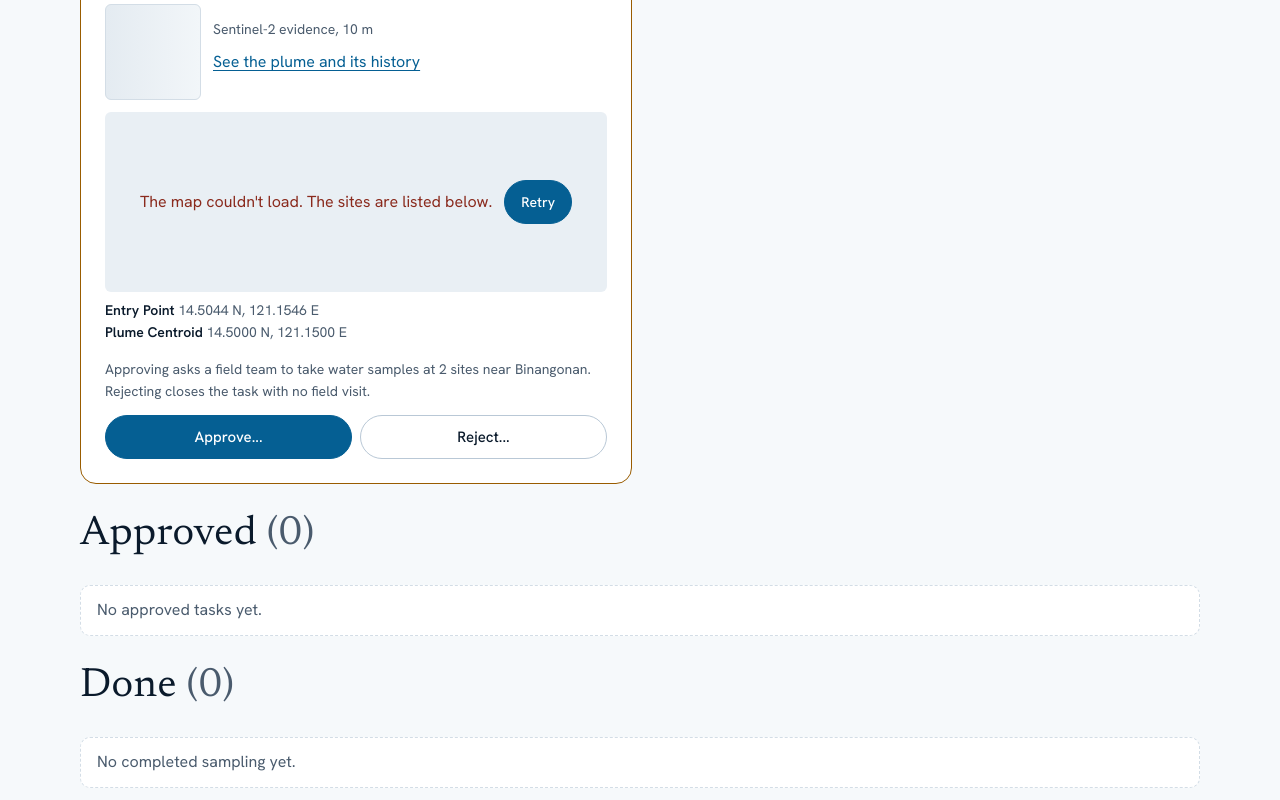
Test: sampling page › rolls back with an error message on other failures
(page scrolled)
Click the button "Approve..." at (228, 437), box [105,415,352,459]
(page scrolled)
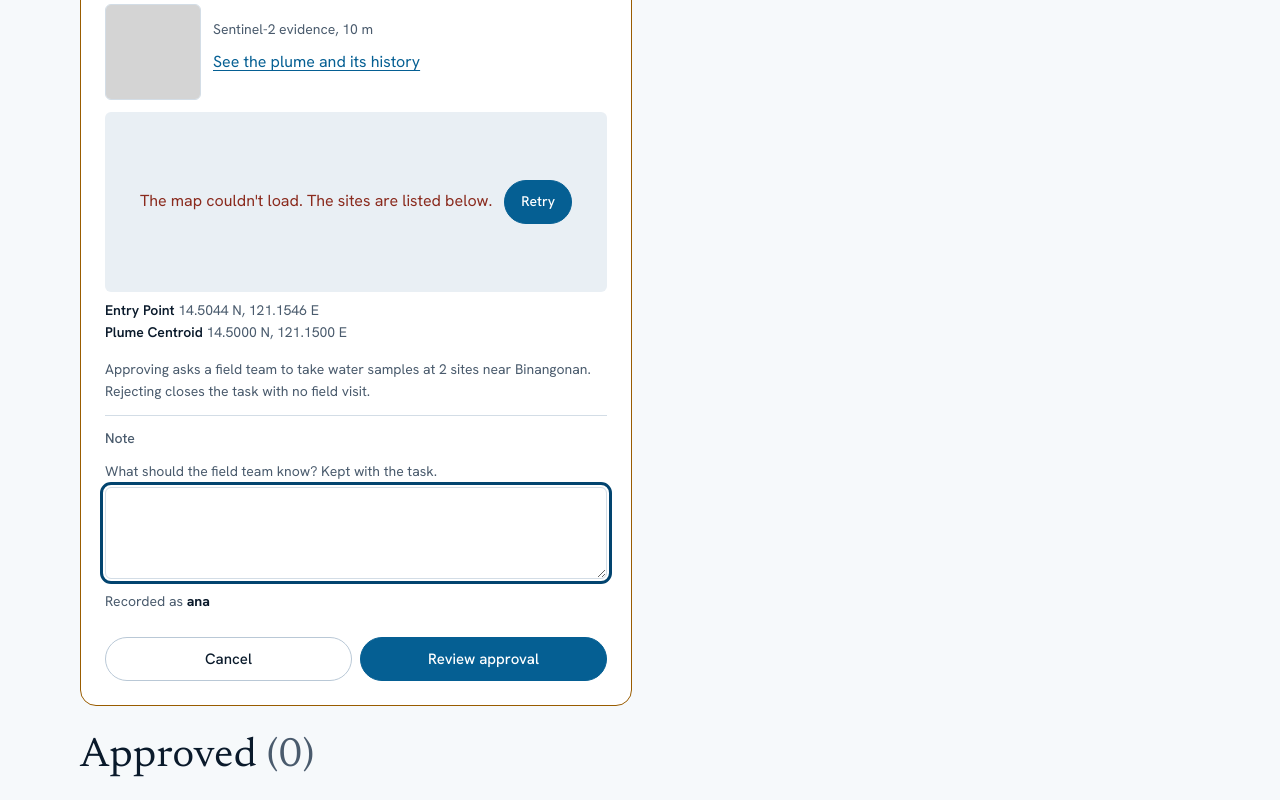
Type "Upstream factory outfall, sample this week." into the text box labelled "Note" at (356, 533), box [105,487,607,579]
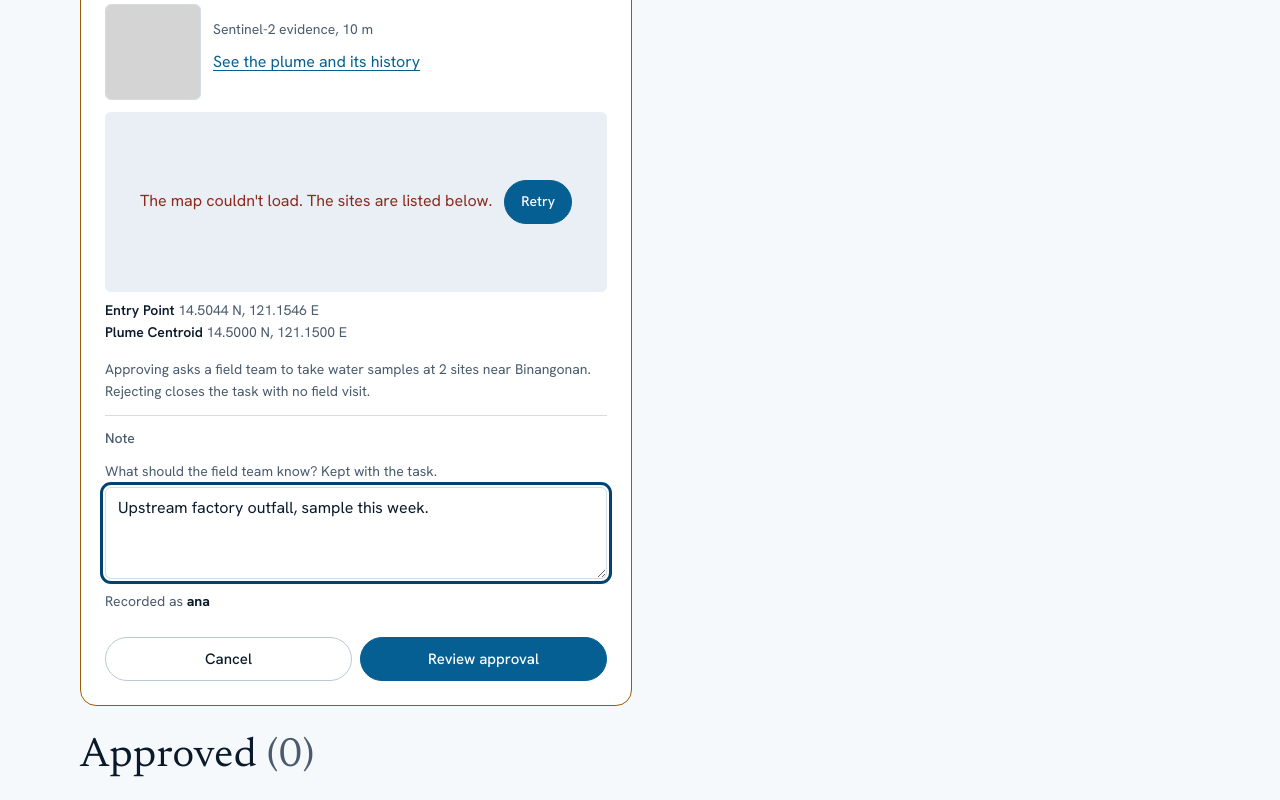
Click the button "Review approval" at (484, 659), box [360,637,607,681]
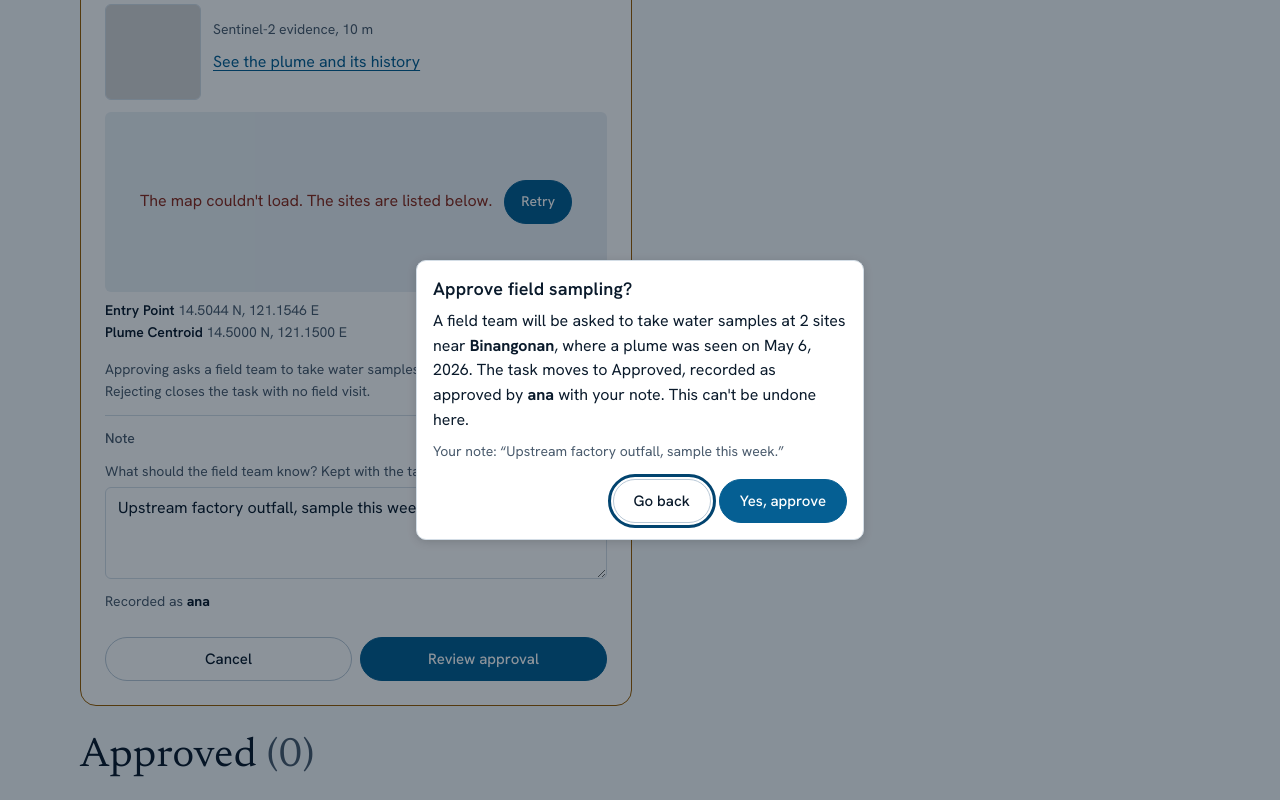
Click the button "Yes, approve" at (783, 500), box [719,478,847,522]
(page scrolled)
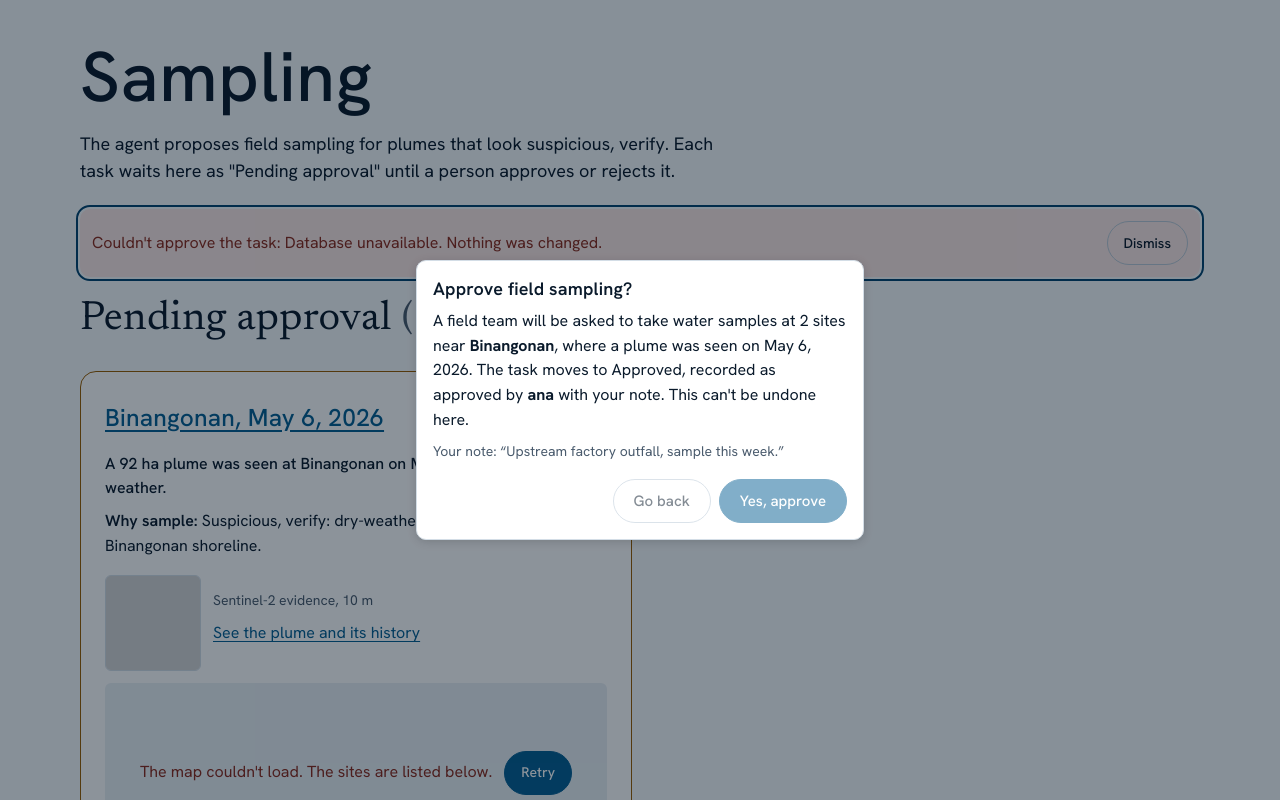
Expected: the link "Binangonan, May 6, 2026" is shown, [105,396,384,440]
Result: the text "Couldn't approve the task: Database unavailable" is shown at [92,232,602,253]
